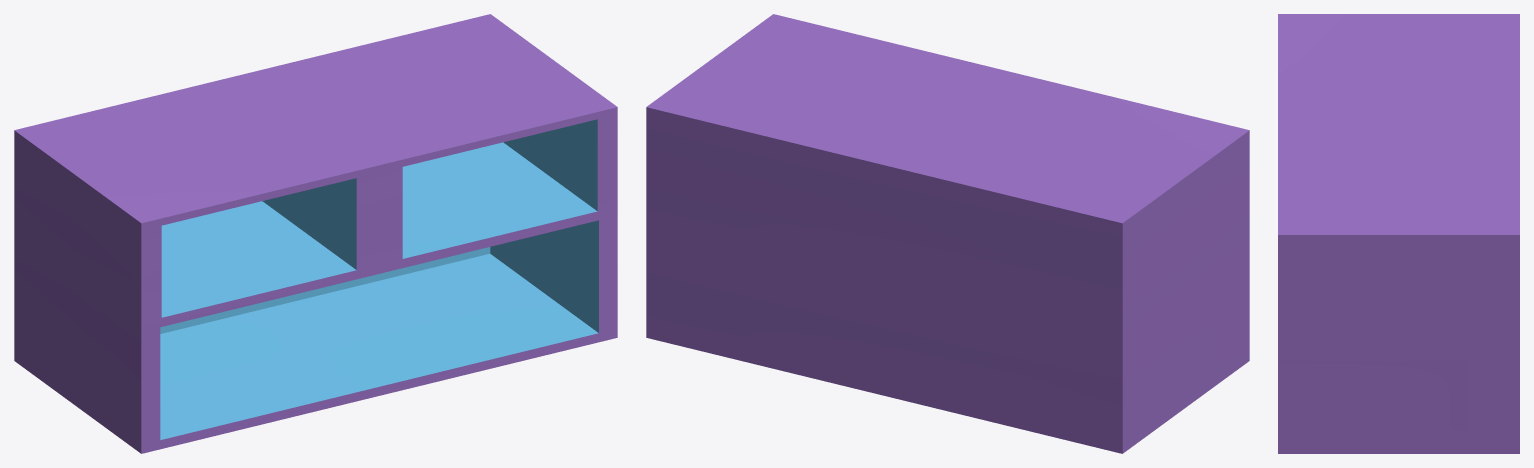
Rendered from ROPERO_CHICO.obj.
3 renders of one model, left to right at view 1: azimuth 30°, elevation 25°; view 2: azimuth 150°, elevation 25°; view 3: azimuth 270°, elevation 25°, orthographic. The views are drawn at different scales.
Parts seen in each view (by area): view 1: MUEBLE; view 2: MUEBLE; view 3: MUEBLE.
Part boxes in pixels (x1=…): MUEBLE: x1=14, y1=14, x2=617, y2=453; MUEBLE: x1=646, y1=14, x2=1249, y2=453; MUEBLE: x1=1278, y1=14, x2=1519, y2=453.
Bounding box in the file's own units: 1.49 × 0.6898 × 0.6898.
1 material, 1 textured.
